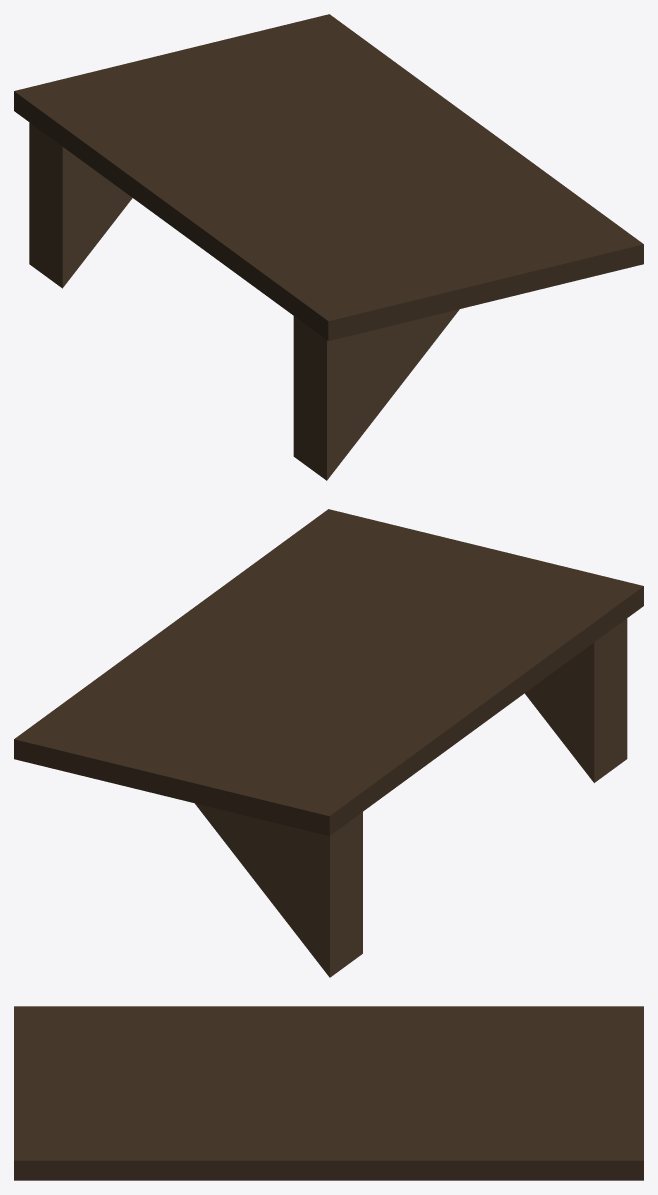
The model's file is Repisa.fbx.
3 views of the same model, one above another, from view 1: azimuth 30°, elevation 25°; view 2: azimuth 150°, elevation 25°; view 3: azimuth 270°, elevation 25° (orthographic).
Parts seen in each view (by area): view 1: Cubo, Cubo.001; view 2: Cubo, Cubo.001; view 3: Cubo.
Part boxes in pixels (x1,y1,x2,y2): Cubo: (14, 14, 643, 340); Cubo.001: (29, 122, 459, 480); Cubo: (14, 509, 643, 835); Cubo.001: (195, 618, 627, 977); Cubo: (14, 1006, 643, 1180).
Size of the model in its own units: 441 by 226 by 761.
